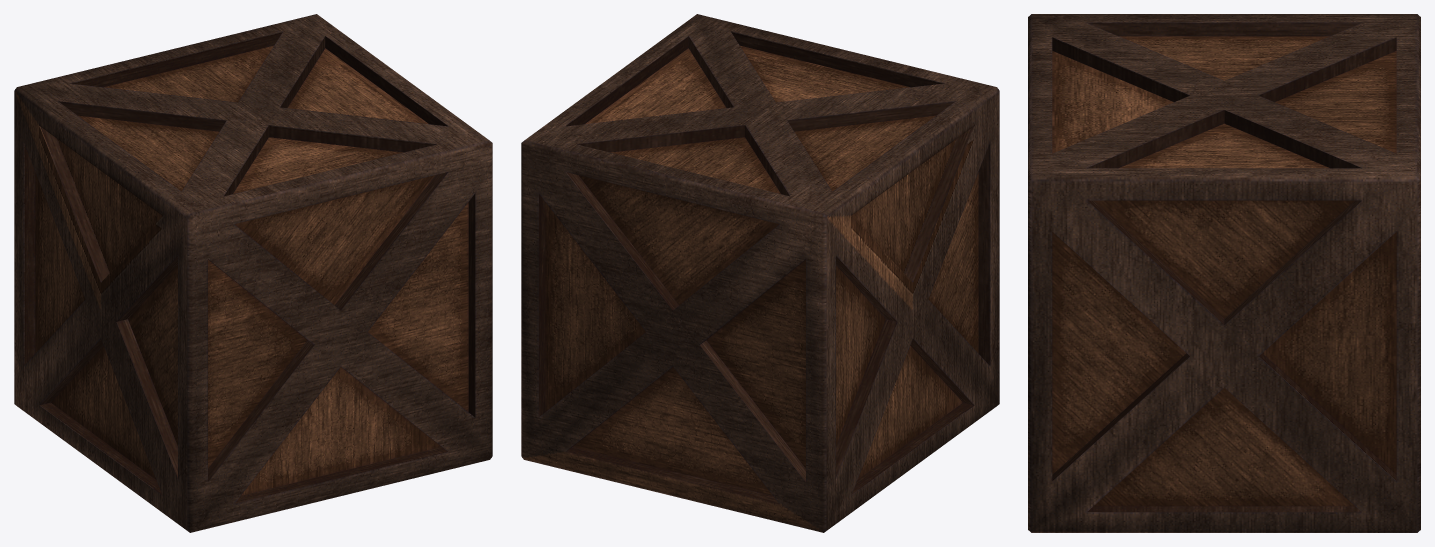
3 views of the same model, side by side, from view 1: azimuth 30°, elevation 25°; view 2: azimuth 150°, elevation 25°; view 3: azimuth 270°, elevation 25° (orthographic). The views are drawn at different scales.
Parts seen in each view (by area): view 1: box; view 2: box; view 3: box.
Boxes of the visible parts, box(x1,y1,x2,y2) form: box: box(14, 14, 492, 532); box: box(521, 14, 999, 532); box: box(1028, 14, 1420, 532).
Size of the model in its own units: 150 by 150 by 150.
1 material, 1 textured.
